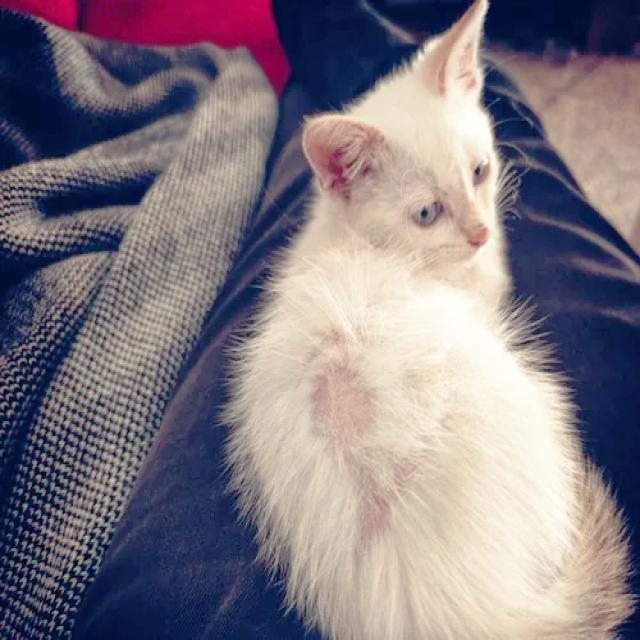hairloss: (312, 367, 376, 444)
